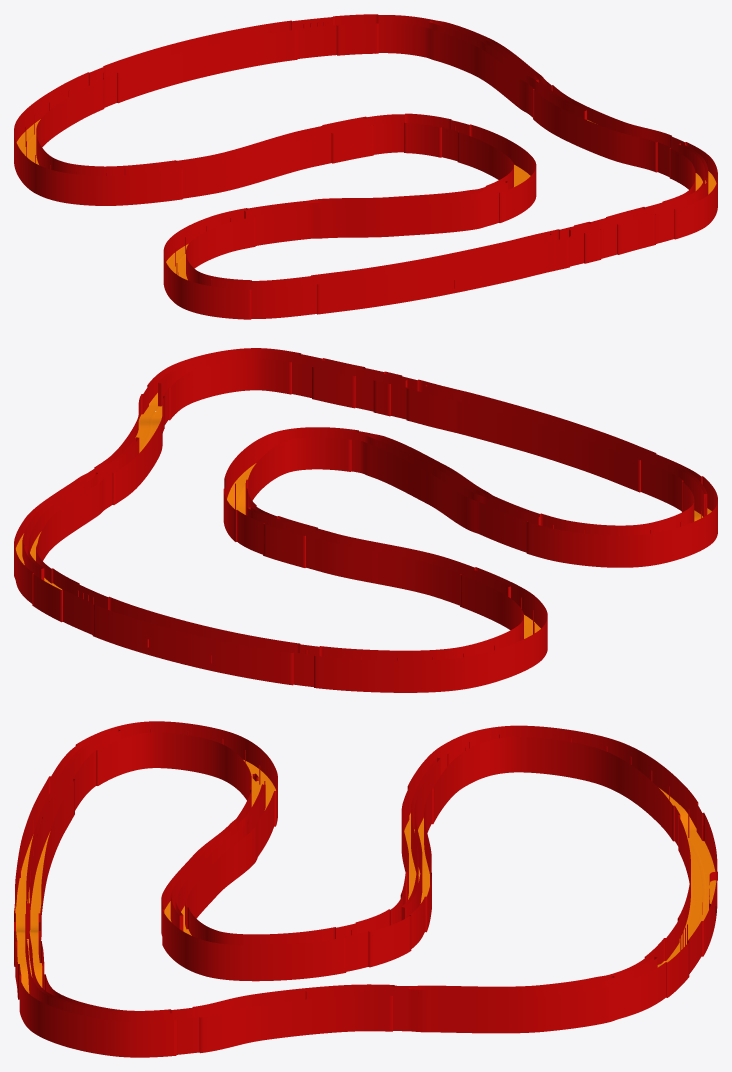
The model's file is colmesh.fbx.
3 renders of one model, top to bottom at view 1: azimuth 30°, elevation 25°; view 2: azimuth 150°, elevation 25°; view 3: azimuth 270°, elevation 25°, orthographic. The views are drawn at different scales.
Parts seen in each view (by area): view 1: Mesh, Mesh_ncl1_1; view 2: Mesh, Mesh_ncl1_1; view 3: Mesh, Mesh_ncl1_1.
Part boxes in pixels (<box>): Mesh: <box>14,14,717,319</box>; Mesh_ncl1_1: <box>16,119,716,280</box>; Mesh: <box>14,348,717,692</box>; Mesh_ncl1_1: <box>15,393,711,638</box>; Mesh: <box>14,721,717,1057</box>; Mesh_ncl1_1: <box>15,760,716,993</box>.
Bounding box in the file's own units: 56698 × 3400 × 56099.
